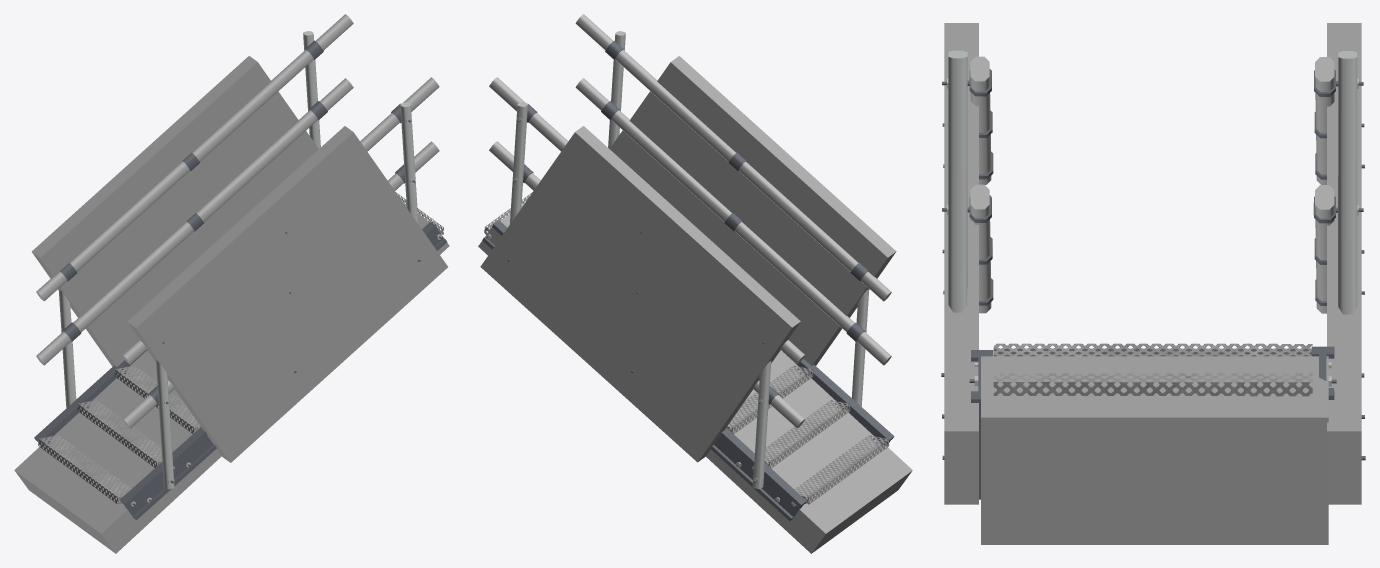
The model's file is Catwalk FBX.fbx.
3 views of the same model, side by side, from view 1: azimuth 30°, elevation 25°; view 2: azimuth 150°, elevation 25°; view 3: azimuth 270°, elevation 25° (orthographic). The views are drawn at different scales.
Parts seen in each view (by area): view 1: pCube37, pCube36, Catwalk_Stairs, pCube35; view 2: pCube36, pCube37, Catwalk_Stairs, pCube35; view 3: pCube35, Catwalk_Stairs, pCube37, pCube36.
Part boxes in pixels (<box>): pCube37: <box>127,126,447,462</box>; pCube36: <box>31,56,318,366</box>; Catwalk_Stairs: <box>34,14,446,519</box>; pCube35: <box>14,203,449,553</box>; pCube36: <box>480,126,800,462</box>; pCube37: <box>610,56,896,365</box>; Catwalk_Stairs: <box>482,14,894,520</box>; pCube35: <box>478,202,912,553</box>; pCube35: <box>981,356,1328,544</box>; Catwalk_Stairs: <box>941,50,1365,499</box>; pCube37: <box>944,23,978,504</box>; pCube36: <box>1327,23,1361,504</box>.
Size of the model in its own units: 349 by 382 by 184.
